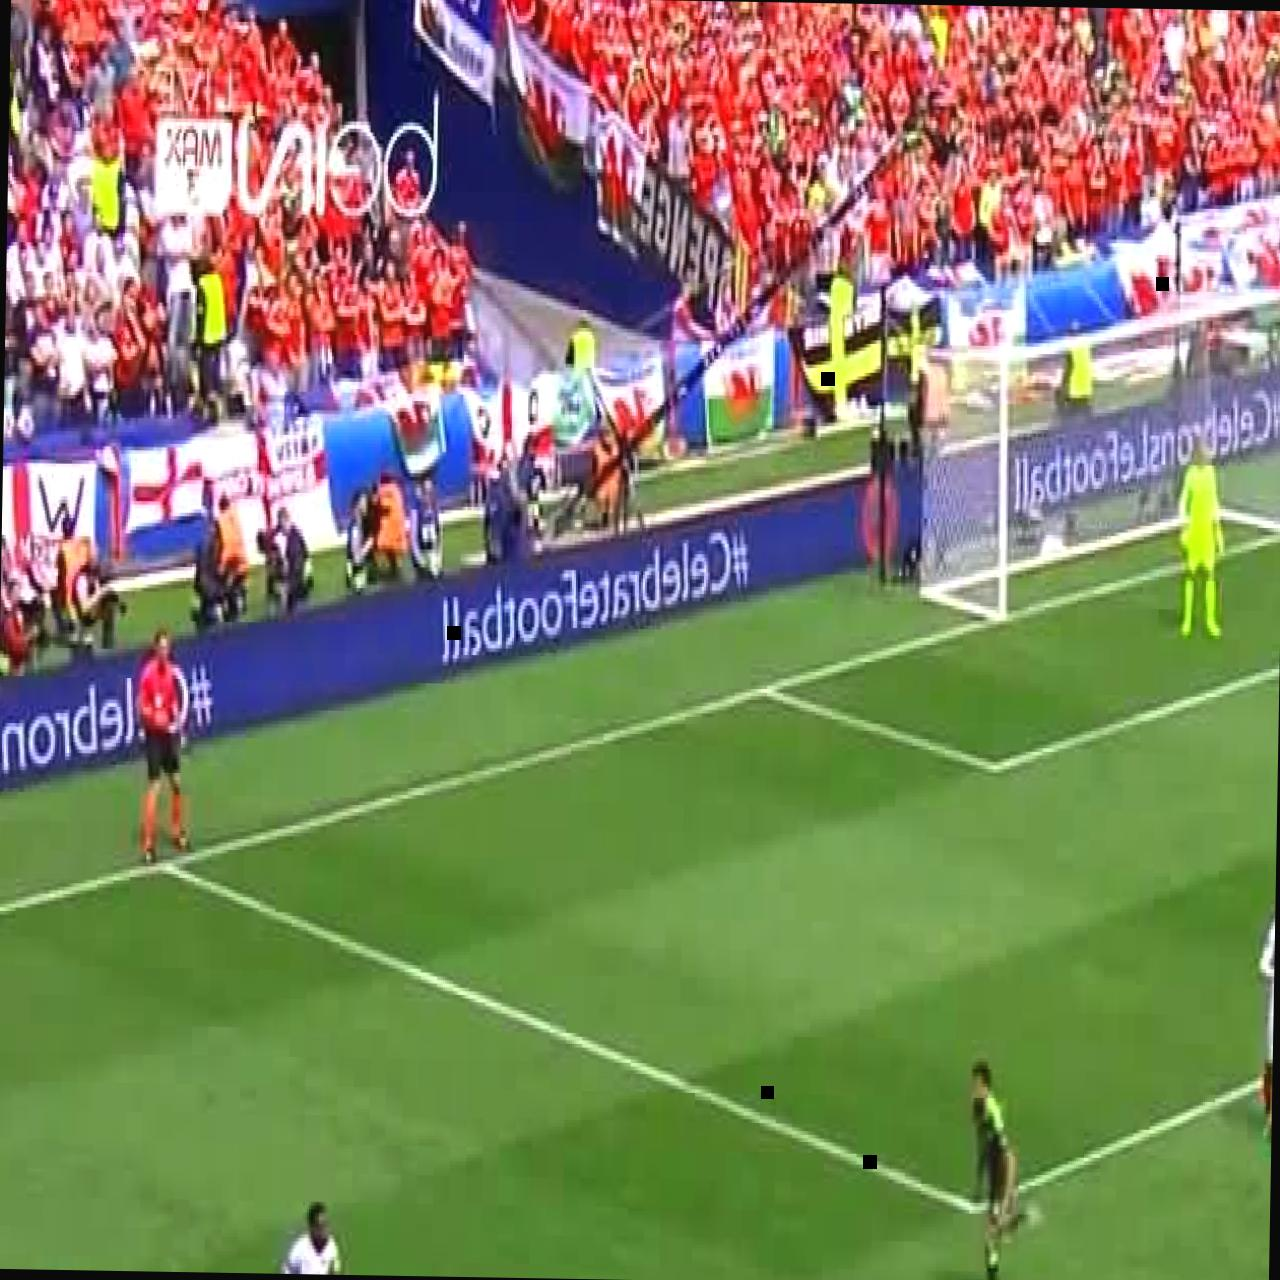football: (969, 1054, 1048, 1280), (136, 626, 194, 867), (1178, 442, 1226, 642), (276, 1201, 358, 1275), (1255, 886, 1276, 1157)
